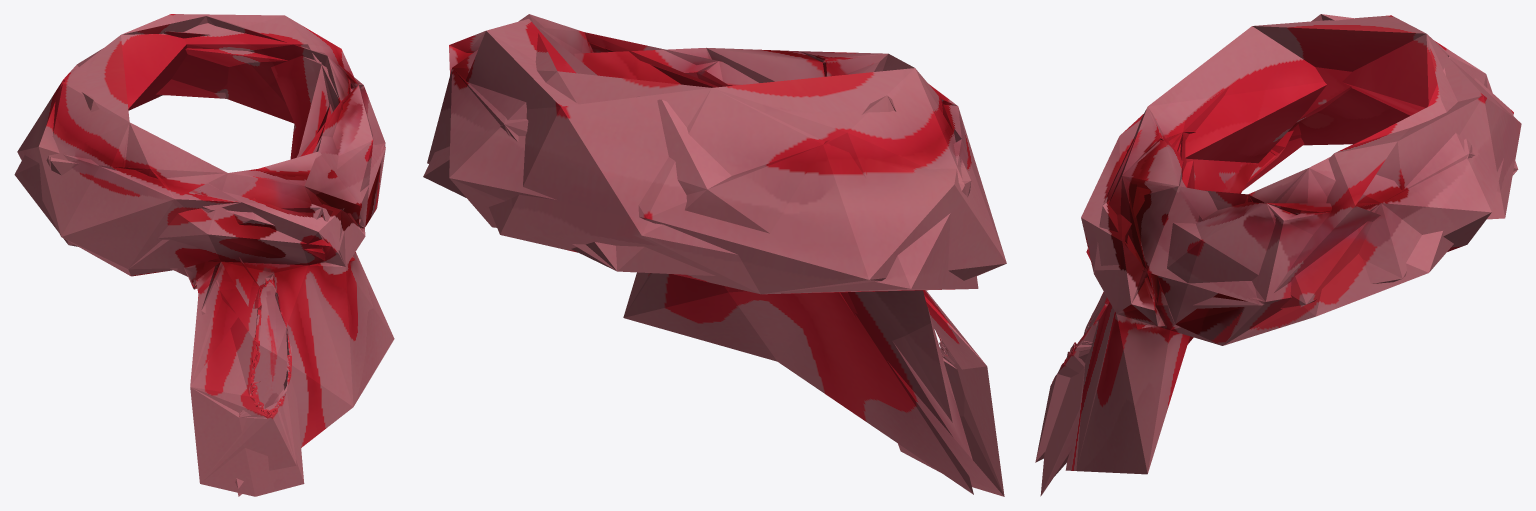
3 renders of one model, left to right at view 1: azimuth 30°, elevation 25°; view 2: azimuth 150°, elevation 25°; view 3: azimuth 270°, elevation 25°, orthographic. The views are drawn at different scales.
Size of the model in its own units: 0.8752 by 0.8996 by 0.8781.
1 material, 1 textured.
